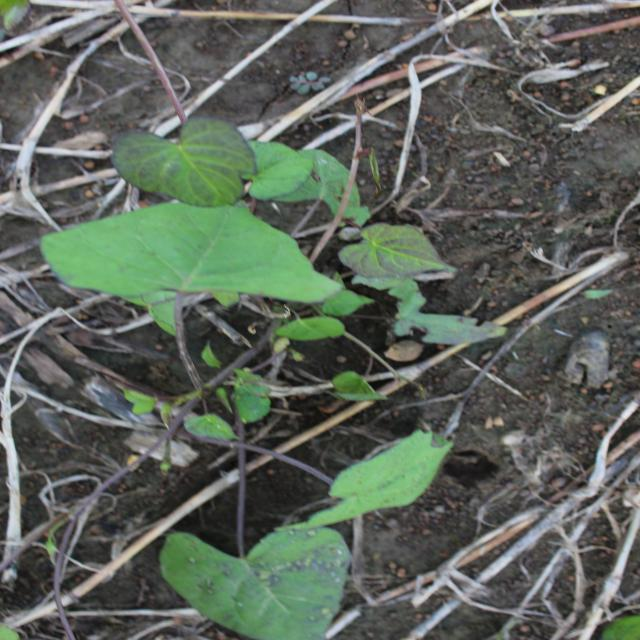MorningGlory: (35, 114, 510, 639)
